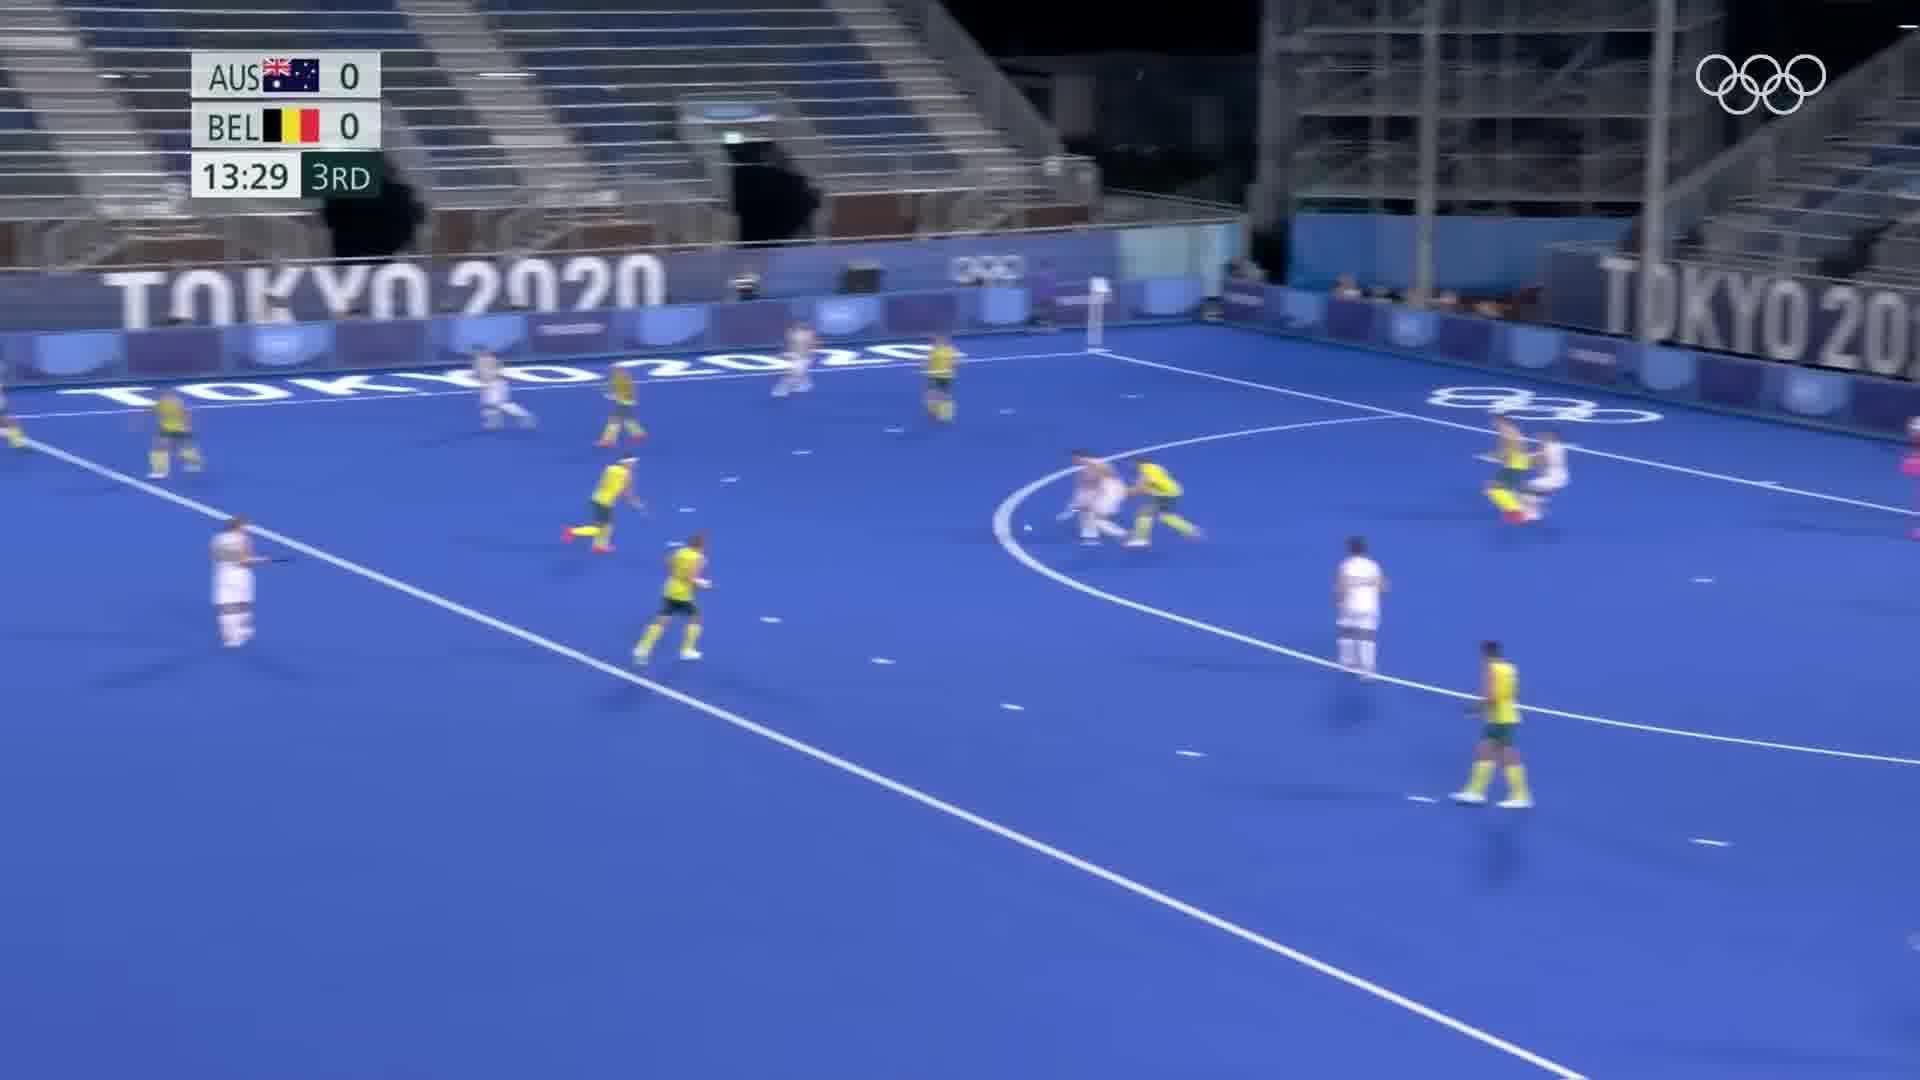ball: (1014, 517, 1042, 535)
